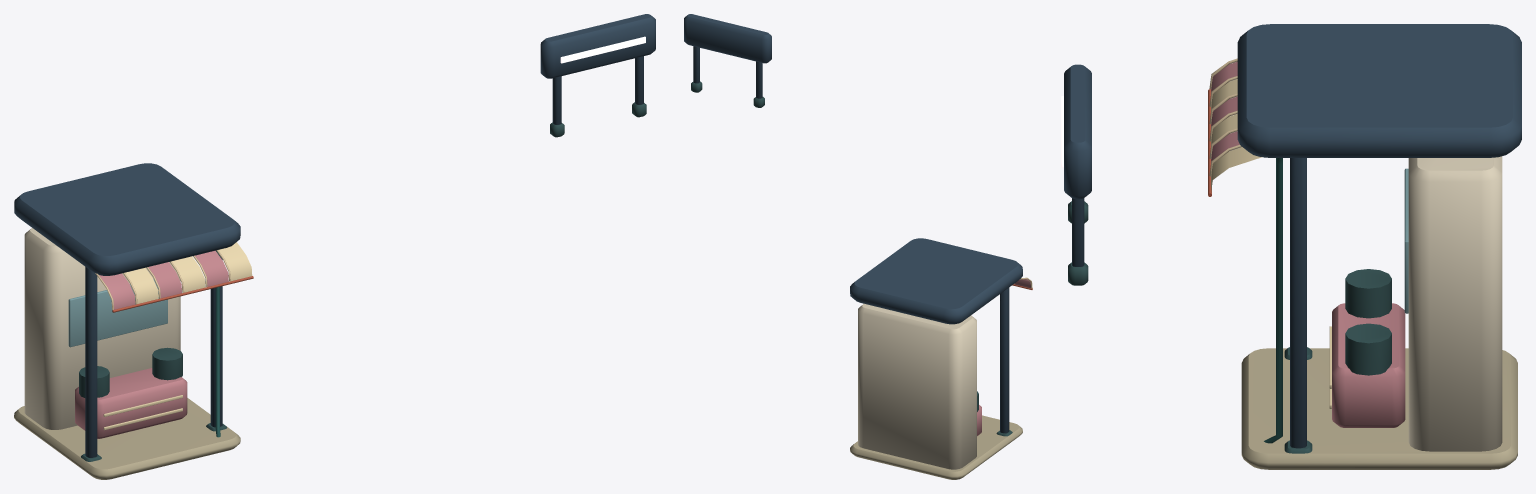
The model's file is luxury_dealership_4.glb.
The picture shows the model from 3 angles, left to right: view 1: azimuth 30°, elevation 25°; view 2: azimuth 150°, elevation 25°; view 3: azimuth 270°, elevation 25°; orthographic projection. The views are drawn at different scales.
Visible parts, largest first — view 1: LuxuryDealership4; view 2: LuxuryDealership4; view 3: LuxuryDealership4.
Part boxes in pixels (box(x1,y1,x2,y2)): LuxuryDealership4: box(14, 14, 655, 479); LuxuryDealership4: box(684, 14, 1032, 479); LuxuryDealership4: box(1061, 24, 1521, 469).
Size of the model in its own units: 7.96 by 5.85 by 4.14.
